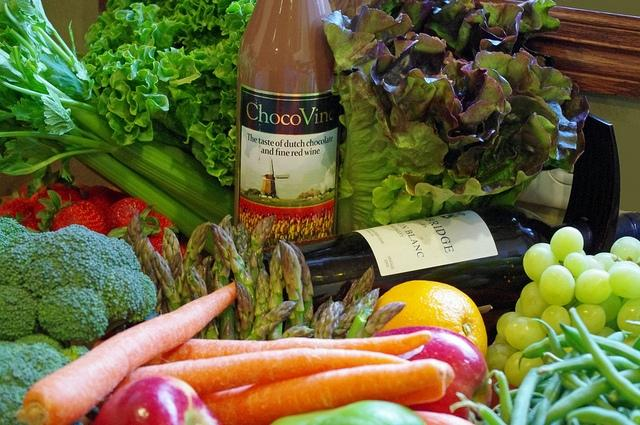apple: (373, 326, 492, 422), (94, 373, 228, 425), (413, 411, 475, 424)
asparagus: (211, 222, 256, 310), (212, 214, 235, 340), (186, 265, 219, 340), (288, 241, 314, 328), (279, 241, 305, 327), (245, 300, 297, 340), (152, 250, 182, 312), (356, 302, 406, 338), (248, 215, 278, 272), (162, 227, 185, 299), (183, 220, 211, 272), (232, 278, 254, 341), (251, 263, 271, 332), (268, 242, 286, 312), (314, 301, 344, 339), (332, 303, 362, 336), (346, 300, 372, 338), (134, 236, 155, 277), (353, 265, 375, 301), (237, 232, 251, 278), (198, 256, 214, 294), (282, 325, 314, 338), (319, 296, 334, 320), (249, 250, 259, 284)
broccoli: (1, 217, 157, 349), (0, 341, 70, 425), (15, 333, 90, 362)
carrot: (23, 280, 235, 425), (96, 348, 410, 408), (199, 358, 455, 425), (93, 330, 433, 367), (414, 411, 473, 425)
celery: (0, 30, 234, 224), (77, 120, 221, 226), (144, 140, 222, 184)
grape: (504, 317, 548, 351), (539, 266, 576, 306), (504, 351, 544, 387), (574, 268, 612, 304), (523, 243, 559, 281), (608, 261, 640, 299), (520, 281, 552, 319), (550, 227, 584, 262), (572, 304, 606, 335), (540, 304, 571, 336), (485, 344, 518, 372), (610, 236, 640, 266), (617, 297, 640, 336), (496, 312, 524, 344), (594, 292, 622, 322), (564, 252, 589, 278), (594, 252, 624, 272), (584, 255, 605, 270), (596, 326, 616, 338), (622, 336, 638, 346)
green bean: (571, 307, 640, 407), (544, 368, 640, 425), (517, 333, 639, 373), (536, 330, 632, 376), (545, 352, 611, 405), (510, 367, 552, 424), (529, 318, 567, 360), (546, 358, 588, 392), (449, 400, 506, 425), (487, 370, 513, 424), (565, 406, 637, 424), (559, 321, 589, 355), (604, 383, 638, 410), (584, 356, 640, 372), (544, 372, 564, 407), (527, 397, 551, 425), (468, 409, 484, 425), (617, 406, 633, 420)
lettuce: (322, 0, 592, 234), (80, 2, 258, 187), (190, 42, 238, 72), (170, 52, 202, 88), (192, 25, 230, 47), (202, 85, 222, 100), (217, 0, 239, 13), (192, 14, 198, 25)
orange: (369, 280, 488, 358)
strawberry: (42, 192, 108, 236), (103, 198, 162, 241), (82, 186, 131, 220), (0, 197, 42, 232), (147, 210, 174, 257), (51, 181, 83, 205), (20, 185, 29, 199)
